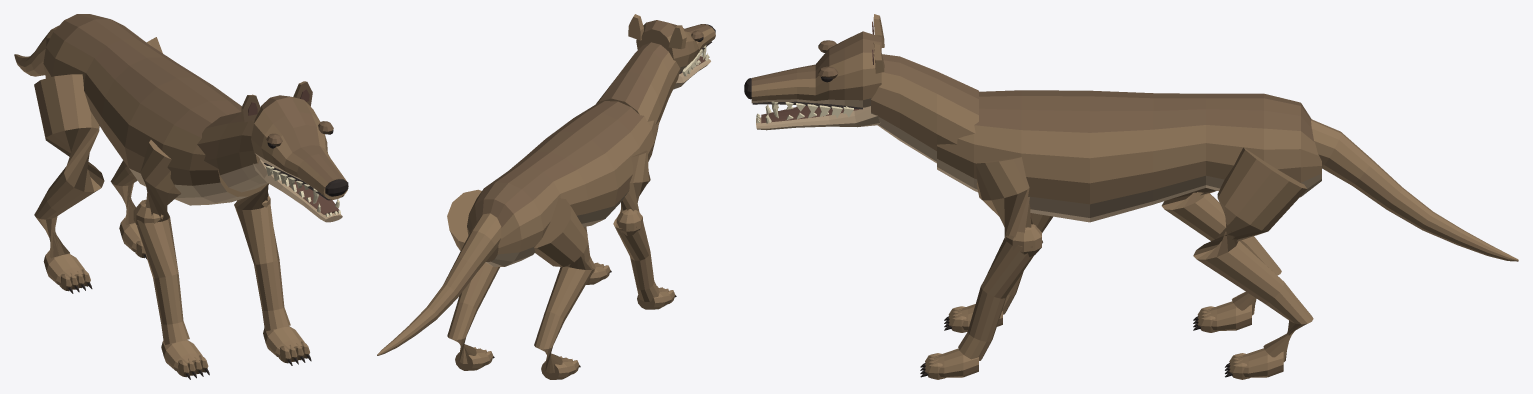
3 views of the same model, side by side, from view 1: azimuth 30°, elevation 25°; view 2: azimuth 150°, elevation 25°; view 3: azimuth 270°, elevation 25° (orthographic). The views are drawn at different scales.
Parts seen in each view (by area): view 1: Torso, Hindlimb_L, Upper_skull, Forelimb_L, Forelimb_R, Neck, Feet, Toes, Hindlimb_R, Mandible, Long_tail, Ears (+5 smaller); view 2: Torso, Hindlimb_L, Neck, Long_tail, Hindlimb_R, Forelimb_L, Upper_skull, Feet, Ears, Elbow_forms, Toes; view 3: Torso, Hindlimb_R, Neck, Forelimb_R, Long_tail, Upper_skull, Feet, Hindlimb_L, Mandible, Toes, Elbow_forms.
Part boxes in pixels (box(x1,y1,x2,y2)): Torso: box(43, 14, 267, 205); Hindlimb_L: box(34, 74, 104, 258); Upper_skull: box(251, 95, 348, 199); Forelimb_L: box(134, 140, 189, 344); Forelimb_R: box(234, 183, 290, 331); Neck: box(197, 112, 267, 192); Feet: box(43, 217, 304, 375); Toes: box(60, 241, 309, 377); Hindlimb_R: box(110, 37, 162, 224); Mandible: box(253, 159, 342, 222); Long_tail: box(14, 25, 58, 76); Ears: box(241, 81, 312, 122); Torso: box(467, 101, 659, 266); Hindlimb_L: box(534, 198, 594, 373); Neck: box(596, 42, 680, 125); Long_tail: box(377, 213, 501, 355); Hindlimb_R: box(447, 189, 499, 363); Forelimb_L: box(613, 150, 659, 301); Upper_skull: box(636, 20, 715, 72); Feet: box(455, 263, 672, 379); Ears: box(628, 14, 686, 49); Elbow_forms: box(616, 209, 642, 235); Toes: box(473, 262, 675, 374); Torso: box(937, 90, 1321, 222); Hindlimb_R: box(1193, 147, 1313, 361); Neck: box(871, 54, 978, 163); Forelimb_R: box(958, 157, 1042, 360); Long_tail: box(1311, 119, 1518, 261); Upper_skull: box(751, 31, 881, 107); Feet: box(933, 301, 1283, 377); Hindlimb_L: box(1161, 188, 1281, 315); Mandible: box(756, 106, 880, 130); Toes: box(925, 306, 1250, 379); Elbow_forms: box(1006, 224, 1041, 256).
Size of the model in its own units: 0.3266 by 0.675 by 1.47.
